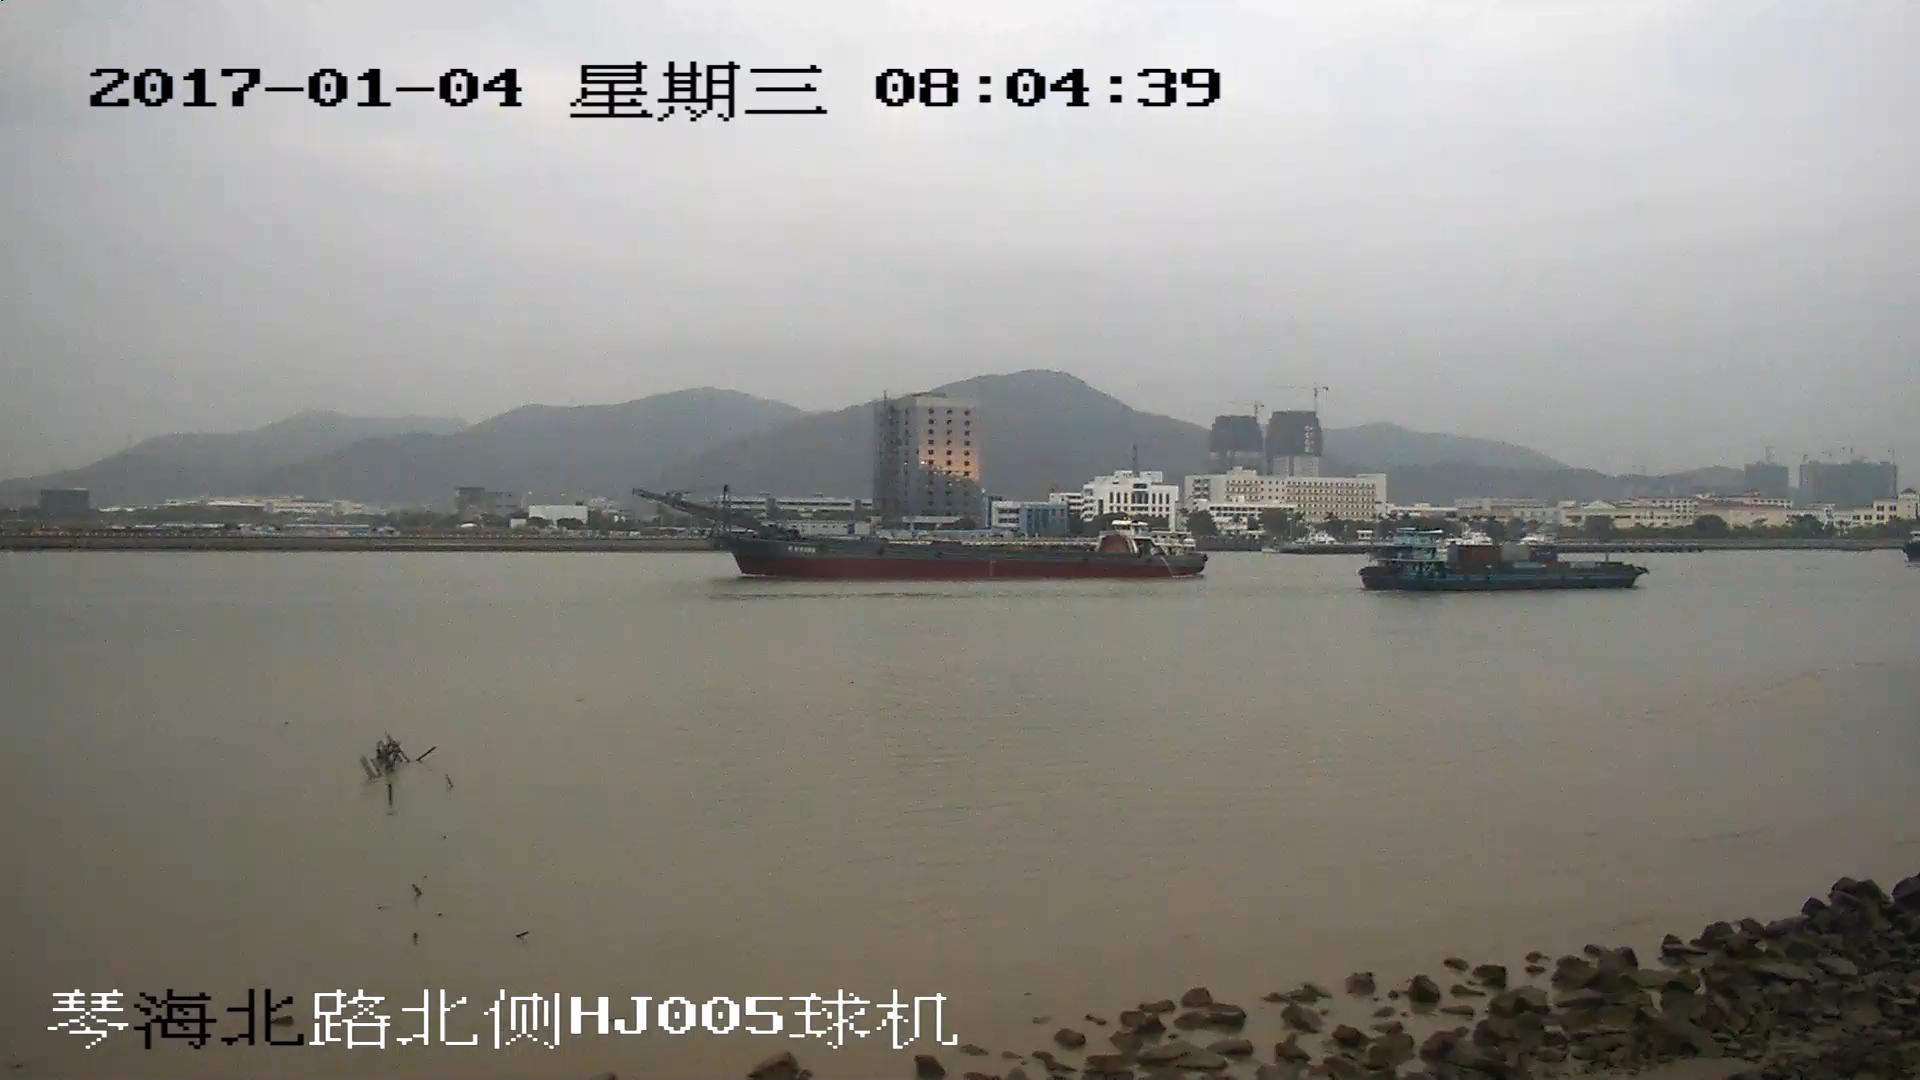Ship: (640, 488, 1207, 579), (1361, 530, 1646, 593)
